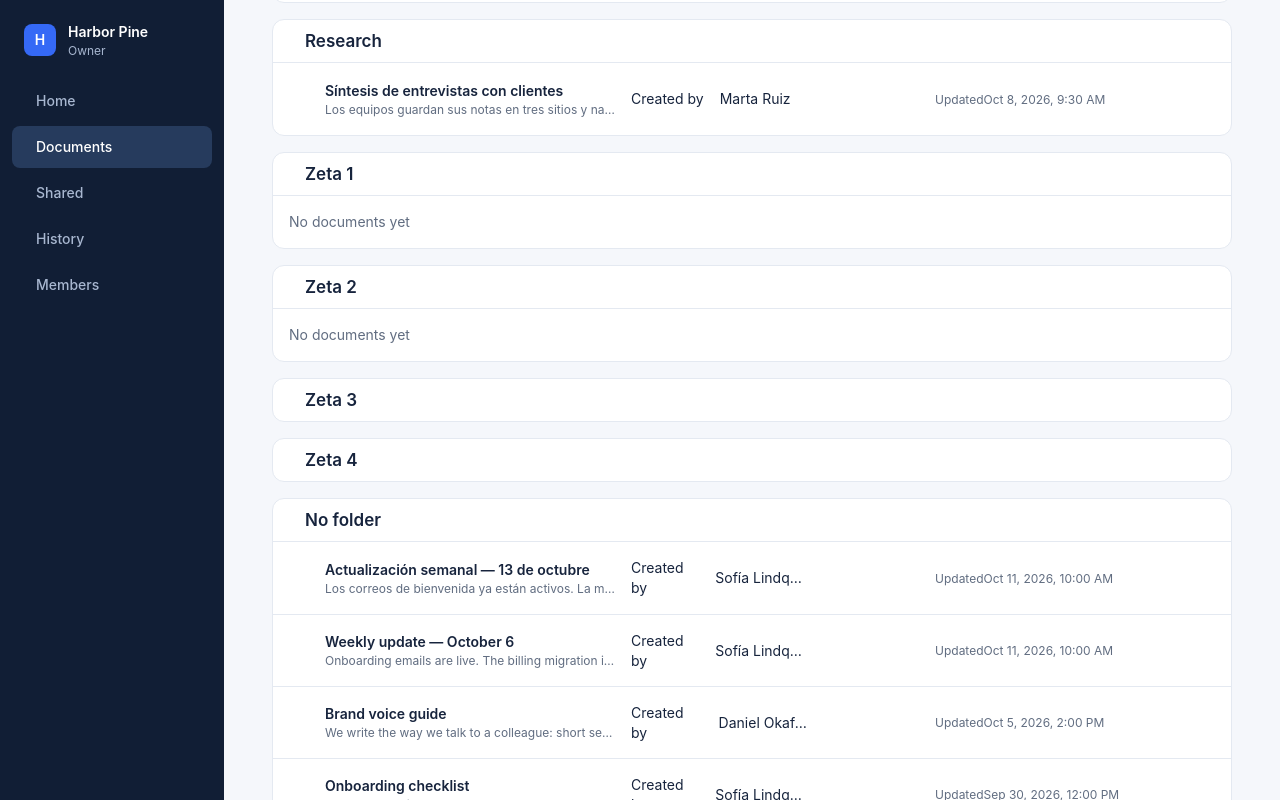
Test: the folders that are open when the screen opens › are the first six: the others are folded, and ask for nothing until they are opened
(page scrolled)
Click the button "Zeta 3".
click(331, 400)  # box [273, 379, 1215, 421]
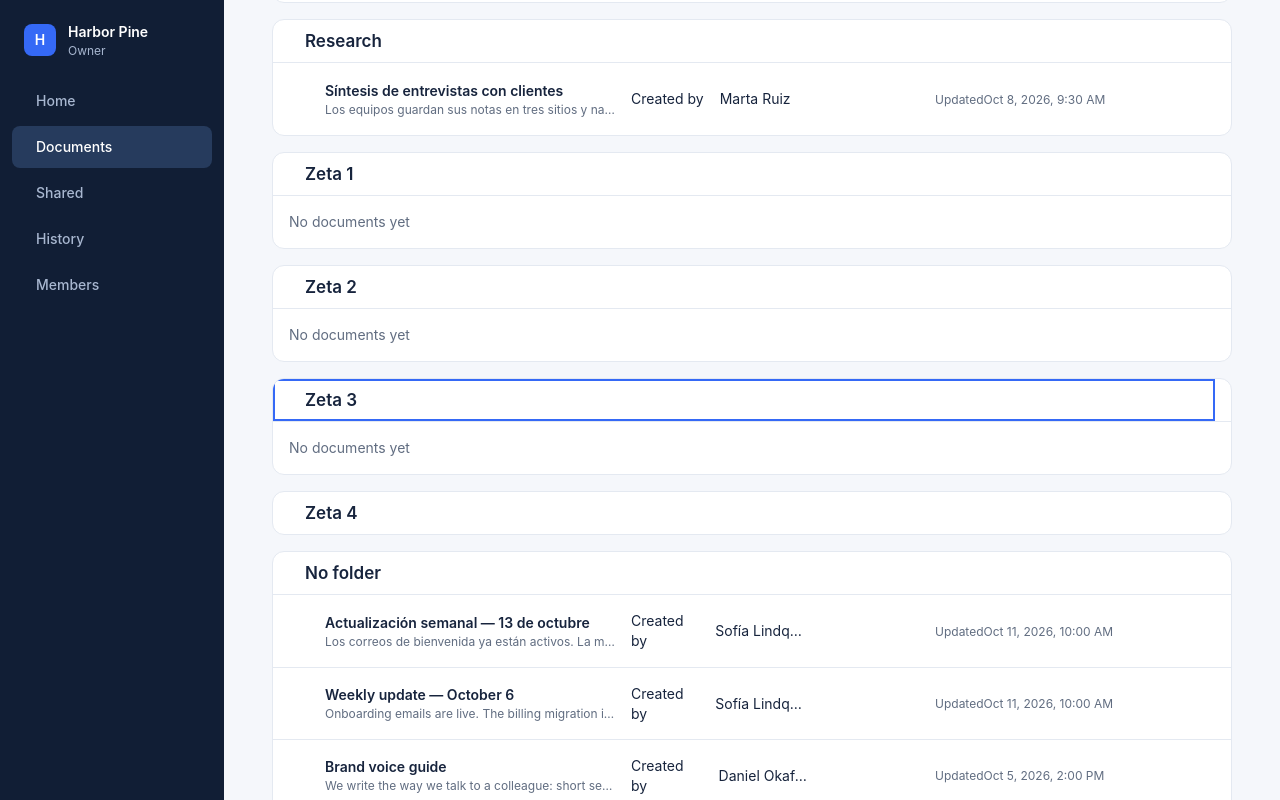
Now the 3rd text "No documents yet" is shown, box [289, 439, 410, 456]
